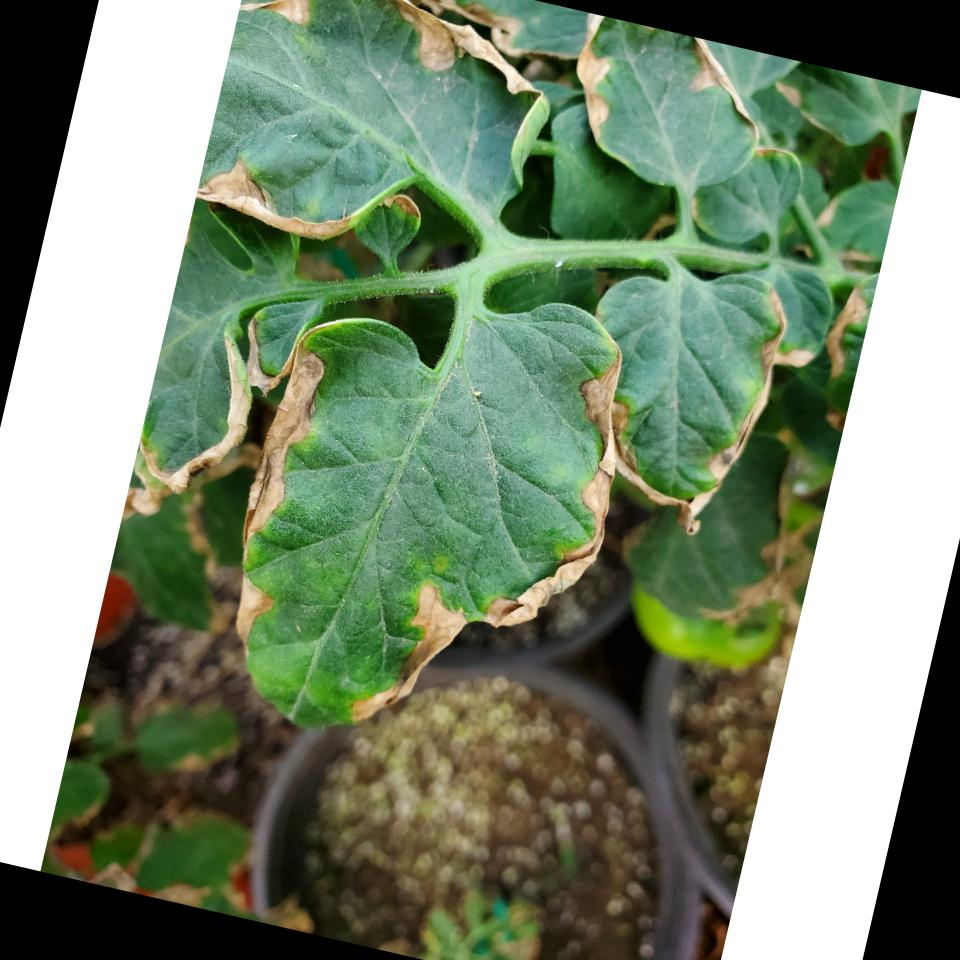tomato_bacterial_blight: (189, 236, 657, 790), (191, 0, 574, 286), (546, 234, 800, 546), (550, 12, 780, 202), (122, 284, 276, 534)
